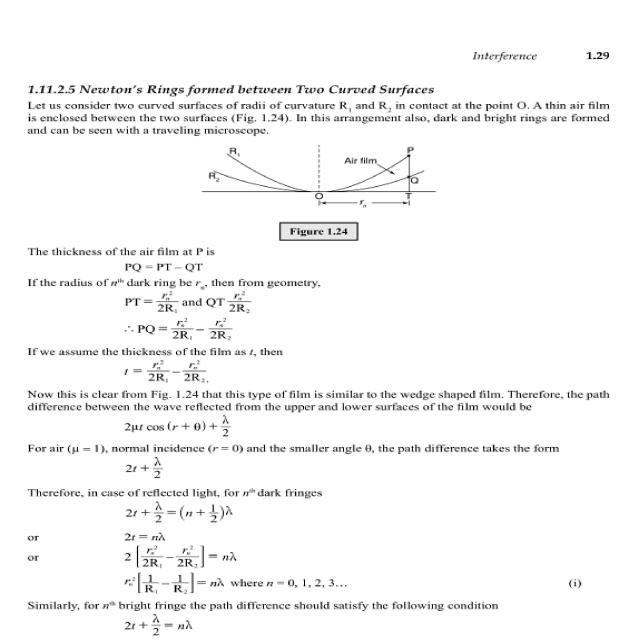diagram: (163, 134, 443, 248)
